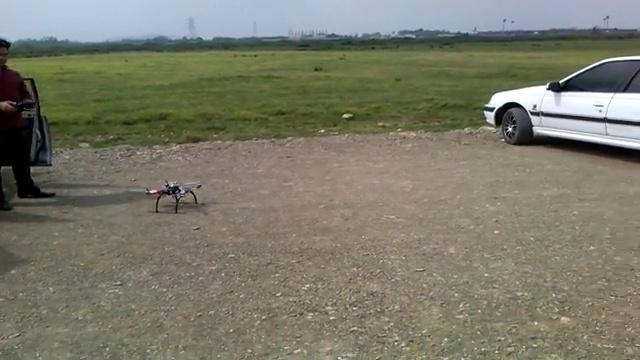drone: (142, 178, 202, 214)
